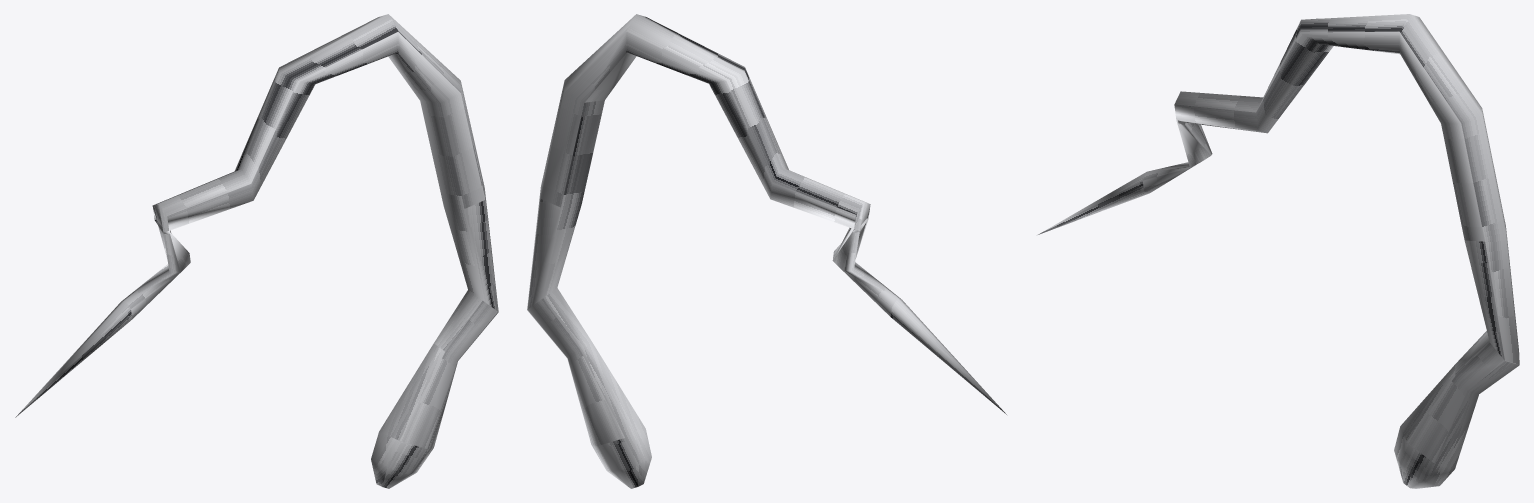
The model's file is snake_000035.obj.
3 renders of one model, left to right at view 1: azimuth 30°, elevation 25°; view 2: azimuth 150°, elevation 25°; view 3: azimuth 330°, elevation 25°, orthographic.
Parts seen in each view (by area): view 1: Cylinder; view 2: Cylinder; view 3: Cylinder.
Part boxes in pixels (x1,y1,x2,y2): Cylinder: (15,14,498,488); Cylinder: (527,14,1006,488); Cylinder: (1038,14,1519,488).
Bounding box in the file's own units: 4.91 × 4.61 × 0.3671.
